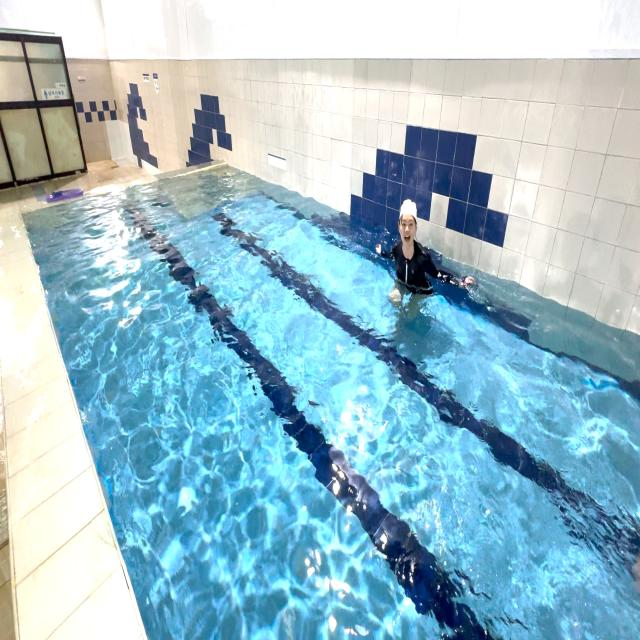Swimming: (375, 196, 477, 320)
